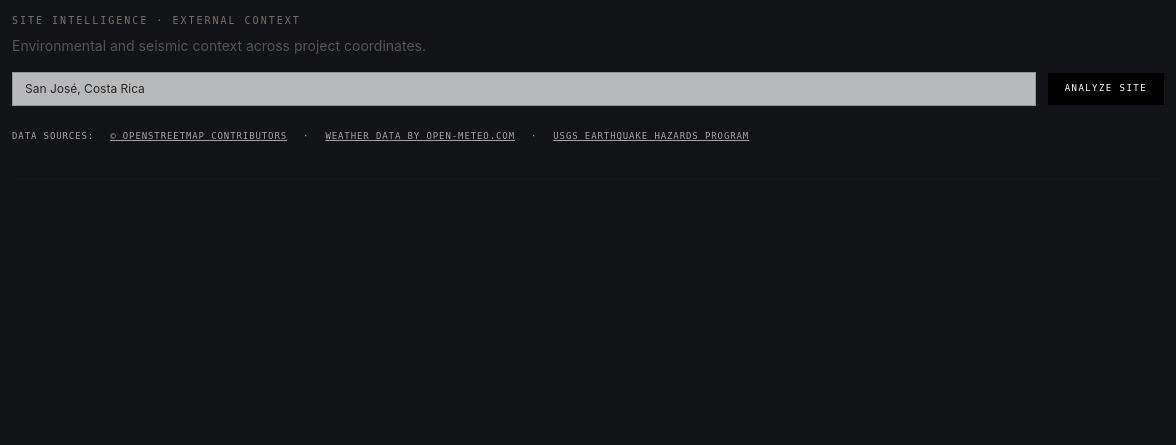
Test case: ExternalContextPanel UI Component › performs full site intelligence analysis on Analyze click
Click the button with test id "site-intelligence-analyze" at (1106, 89), box [1048,73,1164,105]
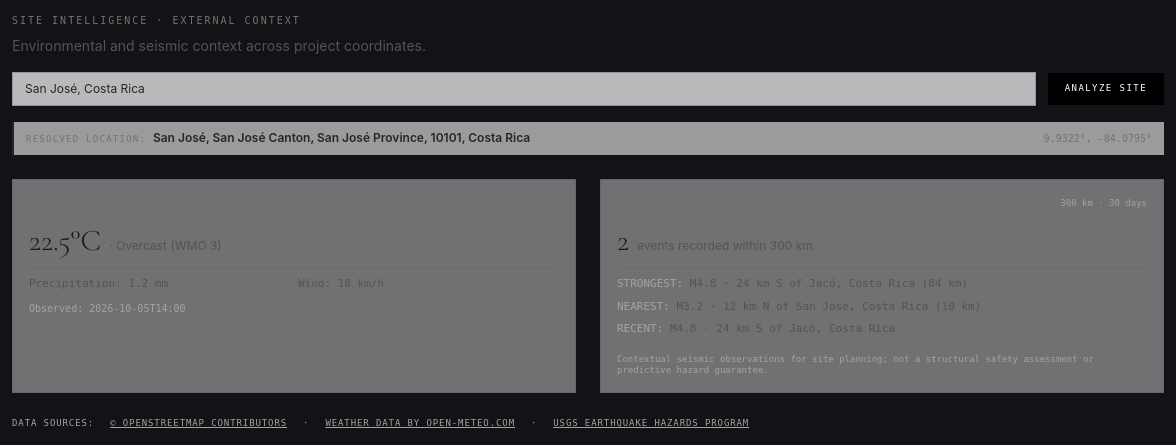
Result: the element with test id "site-intelligence-location" is shown at [12,122,1164,155]
Result: the text "San José, San José Canton" is shown at [153,130,530,145]
Result: the element with test id "site-intelligence-weather" is shown at [12,179,576,393]
